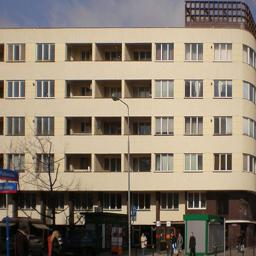building: (0, 23, 243, 222)
